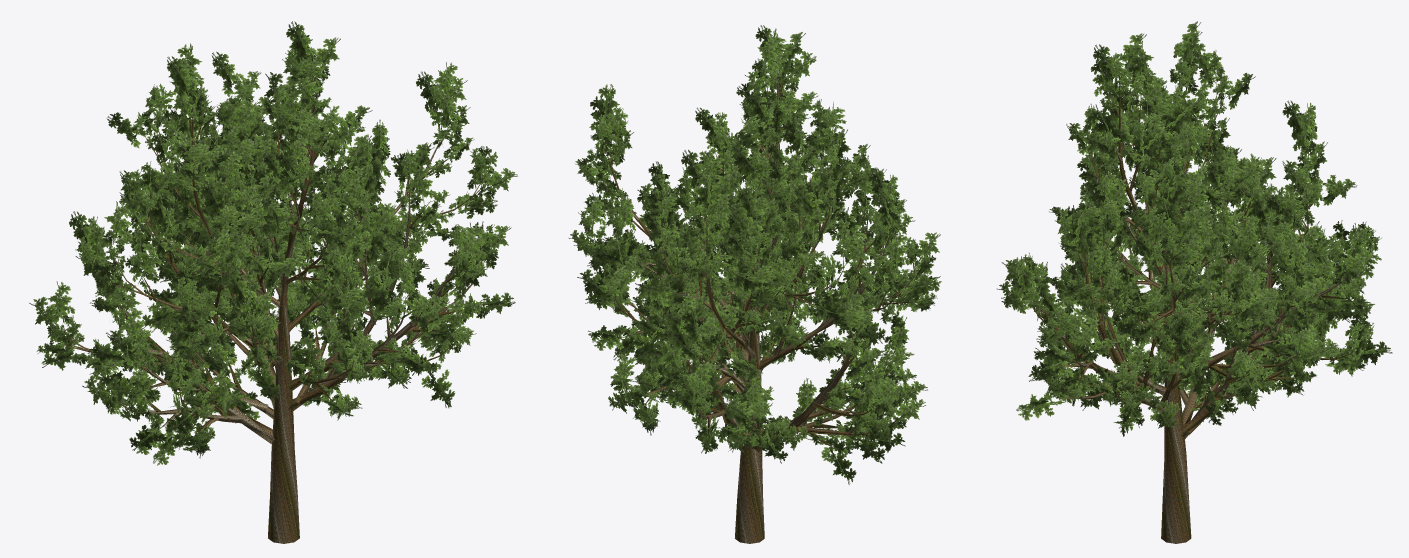
The model's file is oak-lod1.glb.
3 renders of one model, left to right at view 1: azimuth 30°, elevation 25°; view 2: azimuth 150°, elevation 25°; view 3: azimuth 270°, elevation 25°, orthographic. The views are drawn at different scales.
Visible parts, largest first — view 1: leaves, branches; view 2: leaves, branches; view 3: leaves, branches.
Part boxes in pixels (left/top/right/bottom): leaves: left=29, top=21, right=517, bottom=465; branches: left=63, top=70, right=489, bottom=543; leaves: left=569, top=25, right=941, bottom=484; branches: left=594, top=70, right=915, bottom=543; leaves: left=997, top=21, right=1392, bottom=436; branches: left=1026, top=61, right=1353, bottom=543.
Bounding box in the file's own units: 92.03 × 110 × 79.63.
2 materials, 2 textured.
